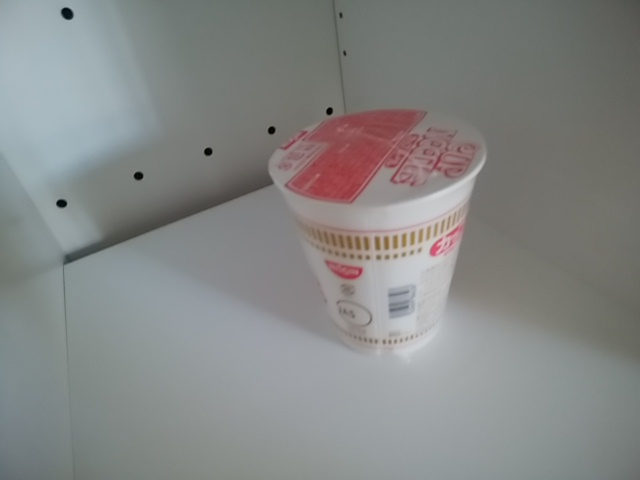cup-ramen: (266, 107, 495, 368)
